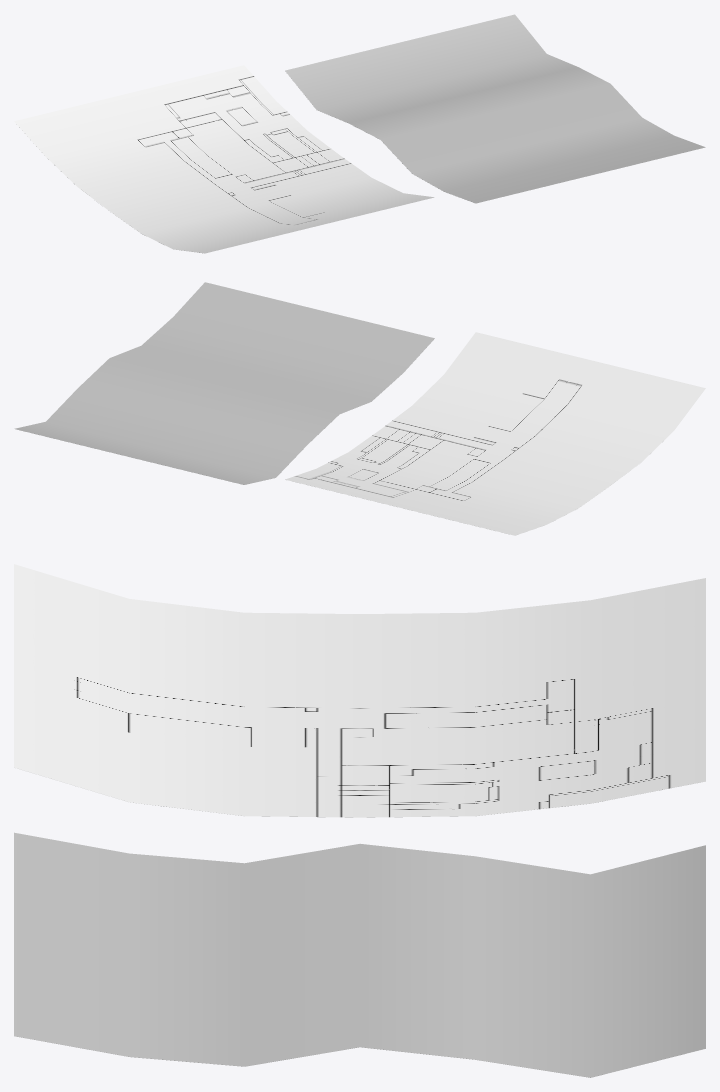
3 renders of one model, top to bottom at view 1: azimuth 30°, elevation 25°; view 2: azimuth 150°, elevation 25°; view 3: azimuth 270°, elevation 25°, orthographic. The views are drawn at different scales.
Parts seen in each view (by area): view 1: Paper_D, Paper_E; view 2: Paper_E, Paper_D; view 3: Paper_D, Paper_E.
Boxes of the visible parts, bbox=[...] form: Paper_D: bbox=[285, 14, 705, 203]; Paper_E: bbox=[14, 65, 434, 253]; Paper_E: bbox=[285, 332, 705, 535]; Paper_D: bbox=[14, 282, 434, 484]; Paper_D: bbox=[14, 832, 705, 1077]; Paper_E: bbox=[14, 564, 705, 817].
Size of the model in its own units: 44.4 by 3.32 by 29.32.
